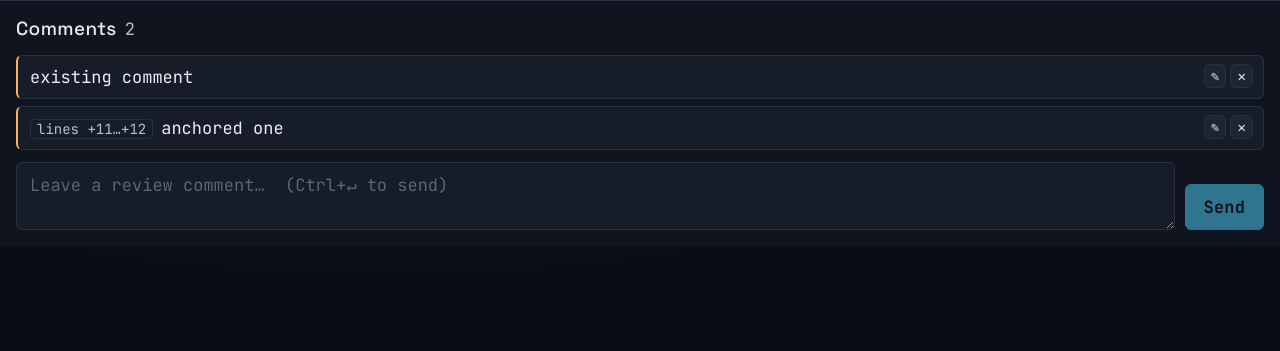
it: editing and deleting comments › keeps the anchor chip visible while editing an anchored comment
Click the button named "edit comment". click: coordinates (1215, 127)
box: [1204,115,1226,139]
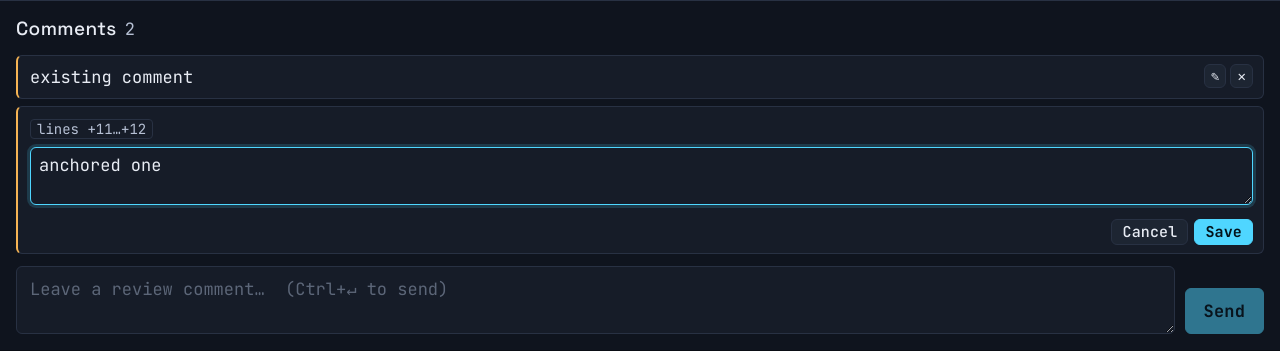
Check: the button "lines +11…+12" is shown, box [30,119,153,139]
Check: the text box showing "anchored one" is shown, box [30,147,1253,205]
